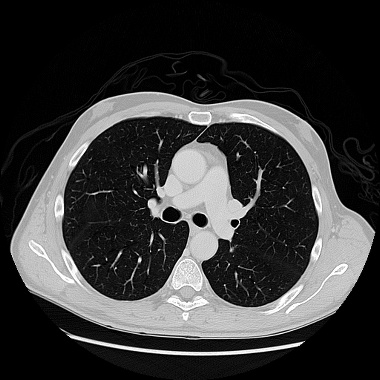PN: (228, 247, 234, 253)
